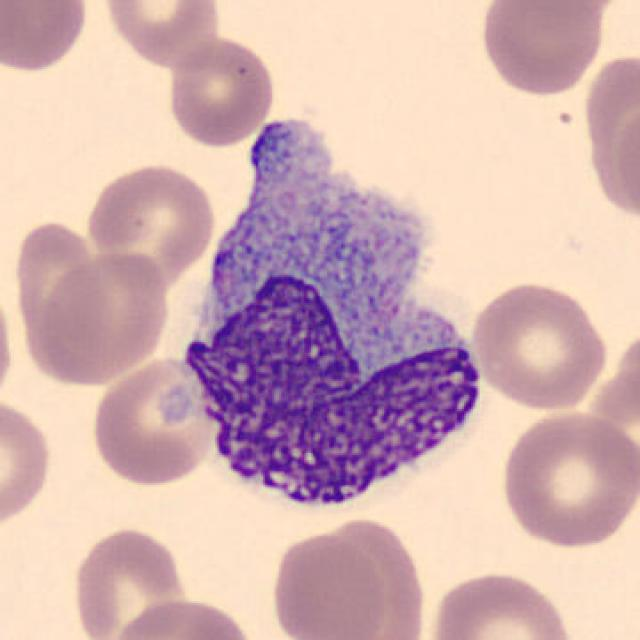Monocyte: (174, 118, 484, 526)
RBC: (22, 247, 175, 386), (496, 405, 638, 552), (468, 276, 610, 412), (87, 354, 222, 488), (84, 159, 218, 289), (13, 218, 118, 383), (305, 514, 427, 640), (67, 523, 192, 640), (267, 529, 389, 640), (164, 33, 278, 150), (476, 0, 610, 99), (423, 566, 578, 640), (578, 48, 640, 226), (580, 362, 640, 509), (98, 0, 224, 69), (0, 393, 57, 534), (101, 594, 258, 640), (0, 0, 91, 76), (606, 88, 640, 224), (0, 275, 16, 411)
